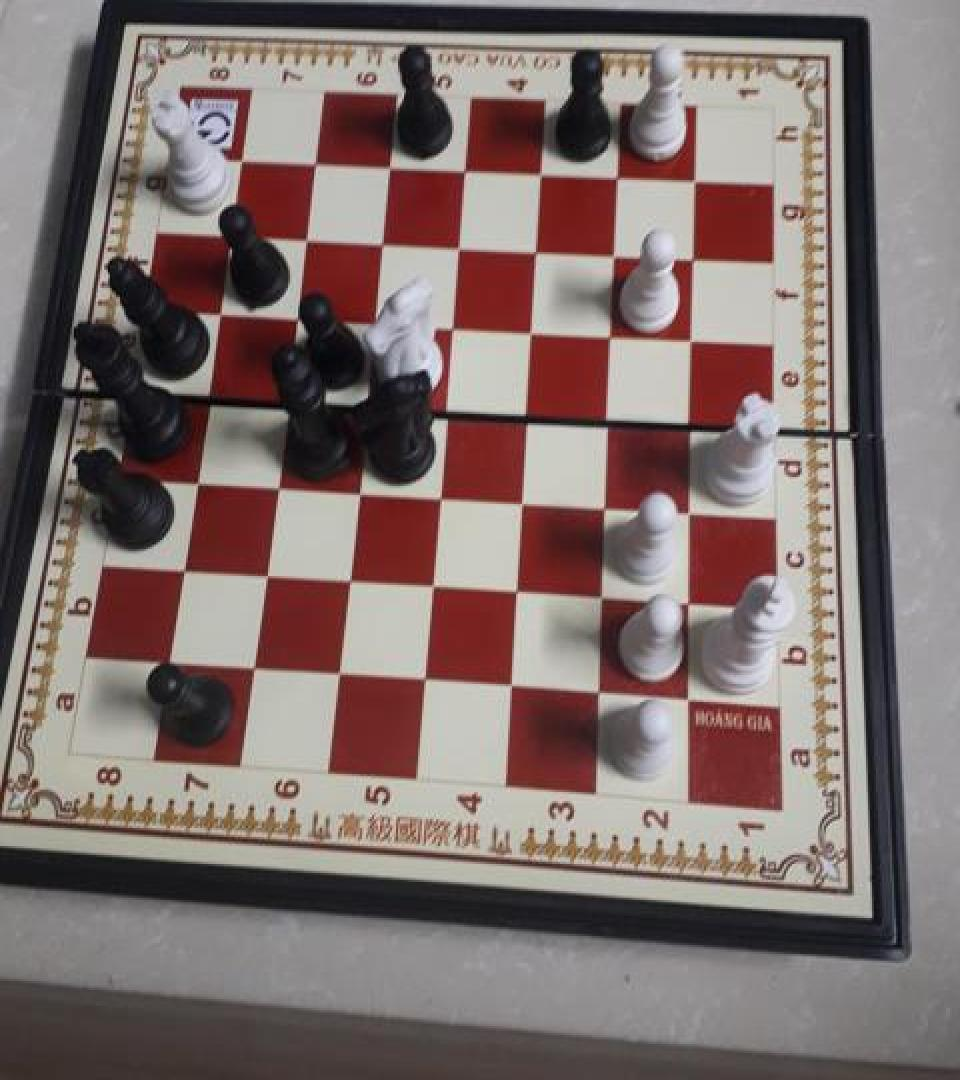xcorner: (293, 220, 323, 255), (529, 157, 559, 192), (155, 644, 185, 678), (240, 649, 270, 683), (326, 654, 356, 688), (413, 662, 443, 696), (500, 667, 530, 701), (588, 674, 618, 708), (168, 549, 198, 583), (252, 554, 282, 588), (336, 560, 366, 594), (420, 566, 450, 600), (506, 572, 536, 606), (591, 578, 621, 612), (678, 584, 708, 618), (181, 460, 211, 494), (345, 470, 375, 504), (427, 476, 457, 510), (511, 482, 541, 516), (594, 486, 624, 520), (679, 492, 709, 526), (194, 376, 224, 410), (273, 380, 303, 414), (353, 384, 383, 418), (434, 389, 464, 423), (515, 394, 545, 428), (597, 399, 627, 433), (680, 404, 710, 438), (283, 298, 313, 332), (362, 302, 392, 336), (441, 307, 471, 341), (600, 316, 630, 350), (681, 320, 711, 354), (217, 217, 247, 251), (370, 225, 400, 259), (447, 228, 477, 262), (524, 233, 554, 267), (603, 236, 633, 270), (681, 240, 711, 274), (228, 143, 258, 177), (302, 146, 332, 180), (377, 150, 407, 184), (453, 153, 483, 187), (605, 161, 635, 195), (682, 164, 712, 198), (677, 681, 707, 714), (263, 466, 293, 499), (206, 294, 236, 327), (520, 312, 550, 345)
